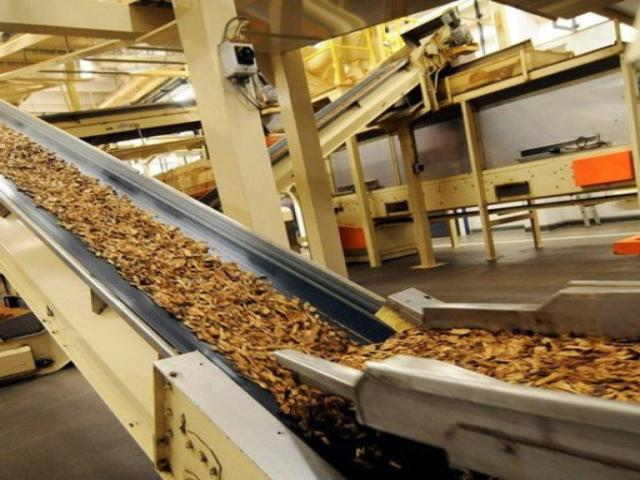conveyor: (0, 99, 499, 480)
